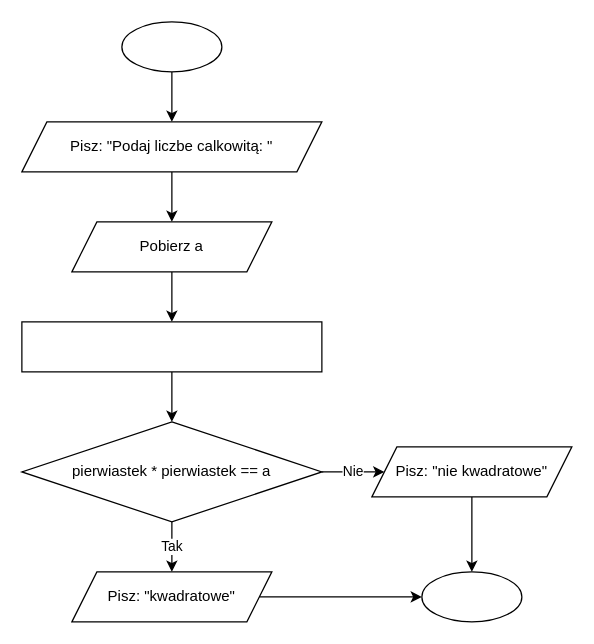
This 594x644 diagram has some shape labels left out. Each missing label, with the box of its shape:
int pierwiastek = (int) sqrt(a): (21, 321, 322, 372)
START: (121, 21, 222, 72)
STOP: (421, 571, 522, 622)
